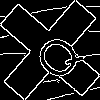Q: (25, 25, 87, 86)
